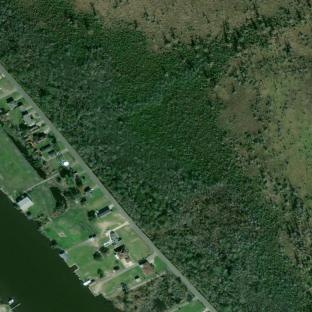Floresta: (0, 12, 247, 312)
